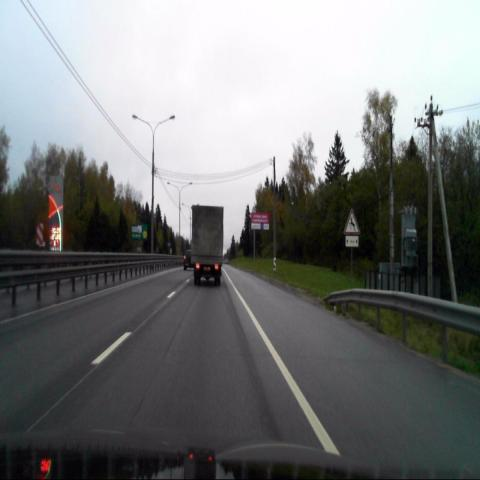1_27: (344, 207, 360, 235)
